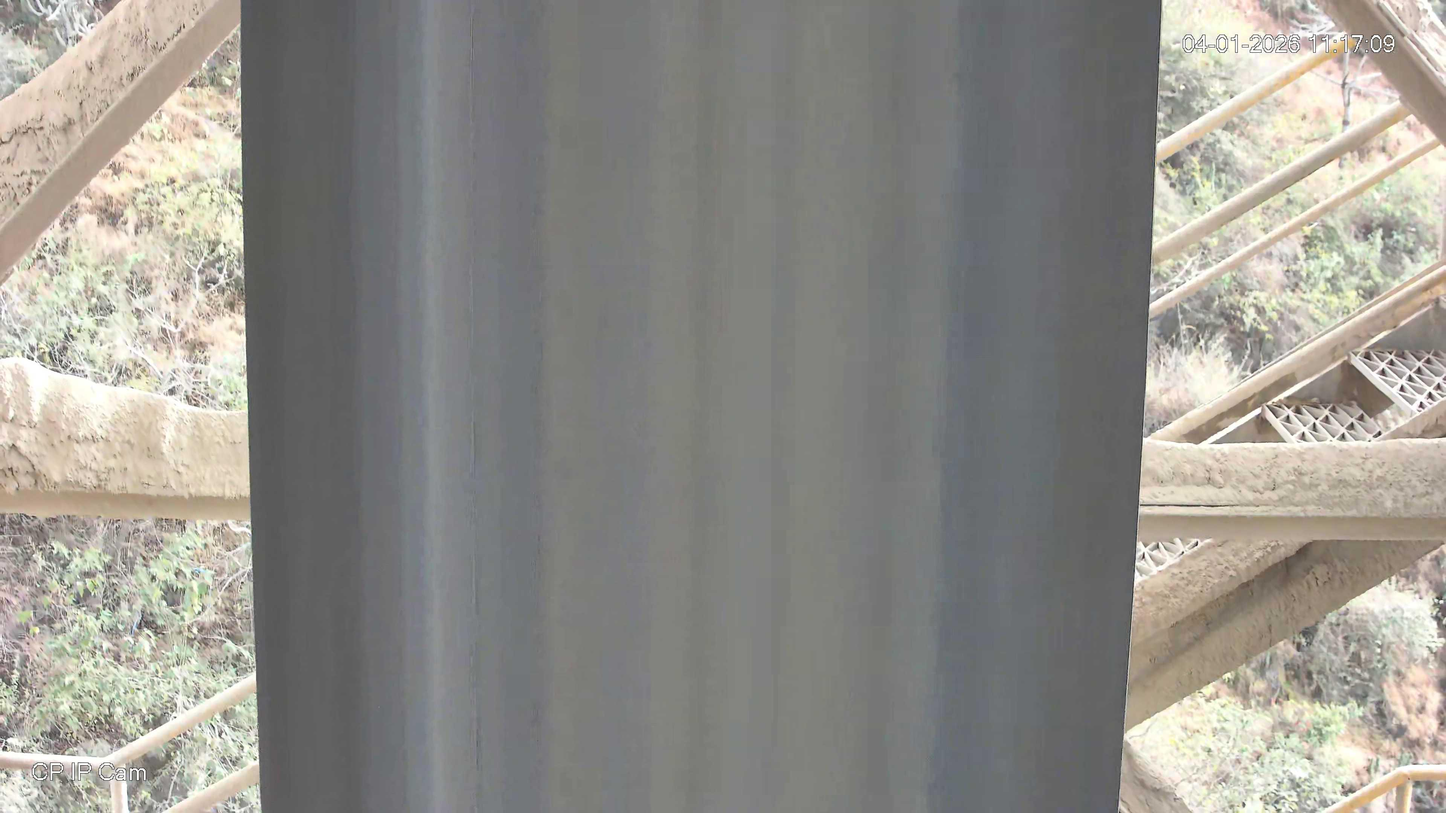belt_roi: (239, 0, 1167, 813)
